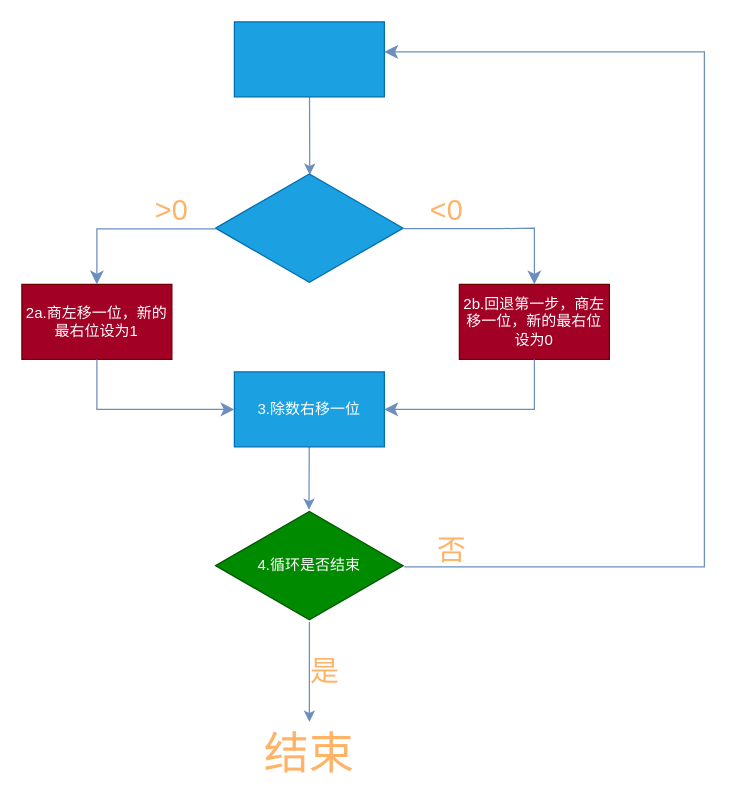
Some shapes in this 739 by 801 pixel diagram are drawn without their labels. Here are the shapes that lost their labels. From the top down, the centre of each, then its label:
(308,59): 1.余数=余数-被除数
(308,227): 2.检查余数
